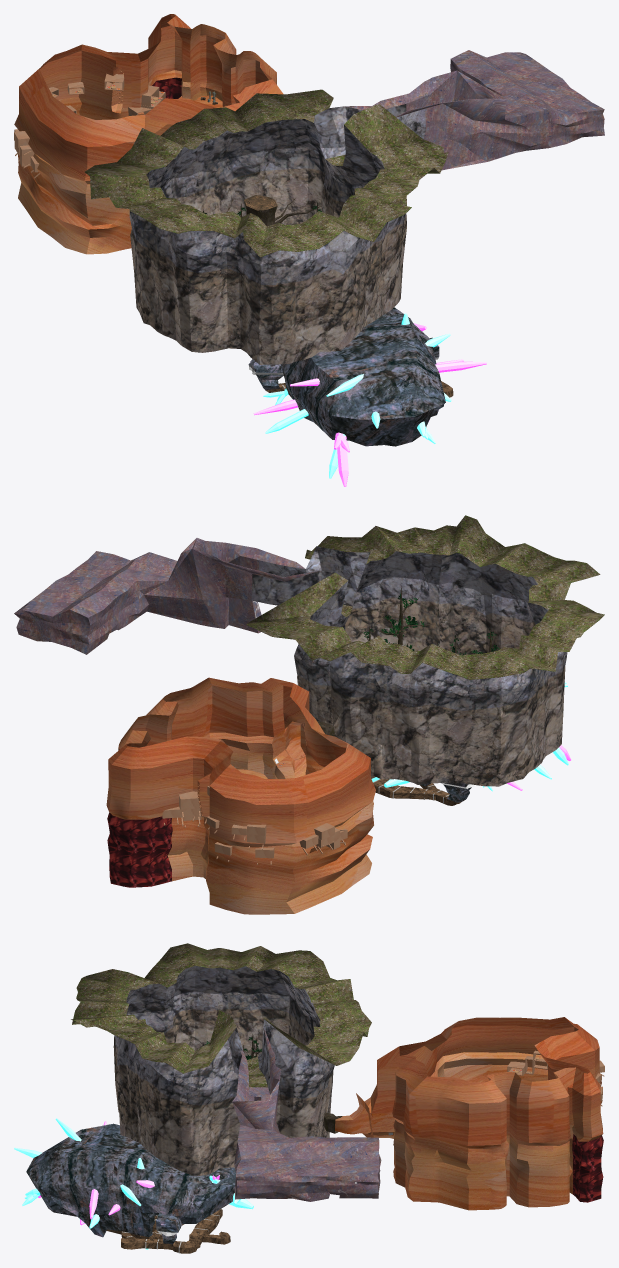
The model's file is GorillaTagMap.fbx.
3 views of the same model, one above another, from view 1: azimuth 30°, elevation 25°; view 2: azimuth 150°, elevation 25°; view 3: azimuth 270°, elevation 25° (orthographic). The views are drawn at different scales.
Parts seen in each view (by area): view 1: Forest_fixed, canyon_fixed, Cave_fixed, Tree; view 2: Forest_fixed, canyon_fixed, Cave_fixed, canyon_entrance; view 3: Forest_fixed, canyon_fixed, Cave_fixed, canyon_entrance.
Part boxes in pixels (left/top/right/bottom): Forest_fixed: left=84, top=50, right=604, bottom=364; canyon_fixed: left=14, top=14, right=283, bottom=254; Cave_fixed: left=248, top=307, right=453, bottom=446; Tree: left=244, top=195, right=277, bottom=226; Forest_fixed: left=14, top=515, right=604, bottom=786; canyon_fixed: left=106, top=677, right=375, bottom=914; Cave_fixed: left=373, top=779, right=475, bottom=805; canyon_entrance: left=285, top=721, right=334, bottom=760; Forest_fixed: left=71, top=943, right=381, bottom=1201; canyon_fixed: left=360, top=1017, right=603, bottom=1210; Cave_fixed: left=26, top=1123, right=236, bottom=1253; canyon_entrance: left=323, top=1093, right=373, bottom=1137.
Size of the model in its own units: 15222 by 7824 by 17920.
